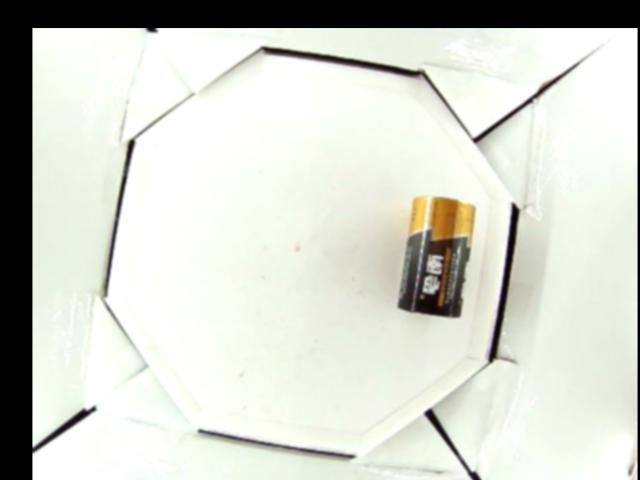Battery: (397, 194, 477, 318)
